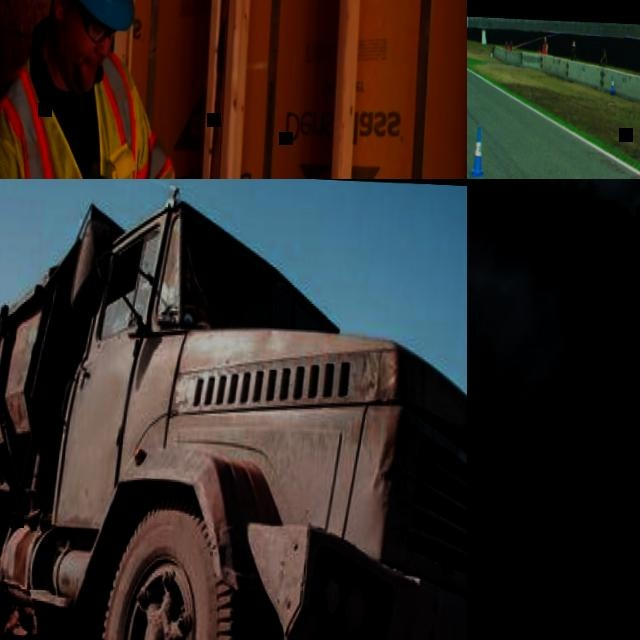Hardhat: (39, 0, 143, 30)
NO-Hardhat: (602, 42, 605, 49), (572, 42, 575, 48), (544, 38, 546, 43)
NO-Mask: (58, 52, 97, 94)
NO-Safety Vest: (600, 52, 606, 66), (571, 48, 576, 60)
Person: (0, 0, 221, 179), (599, 40, 607, 68), (571, 42, 577, 61), (542, 38, 548, 54), (508, 42, 513, 53), (537, 47, 541, 55), (504, 43, 507, 49)
Safety Cone: (470, 126, 486, 178), (610, 77, 614, 95)
Safety Vest: (0, 38, 182, 179), (542, 44, 547, 56), (505, 45, 508, 50), (538, 49, 541, 54)
machinery: (0, 179, 467, 640)
